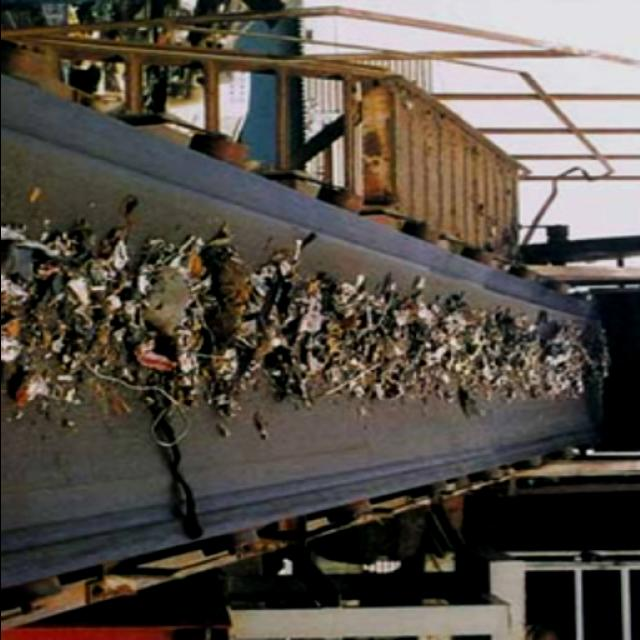conveyor: (0, 69, 588, 597)
